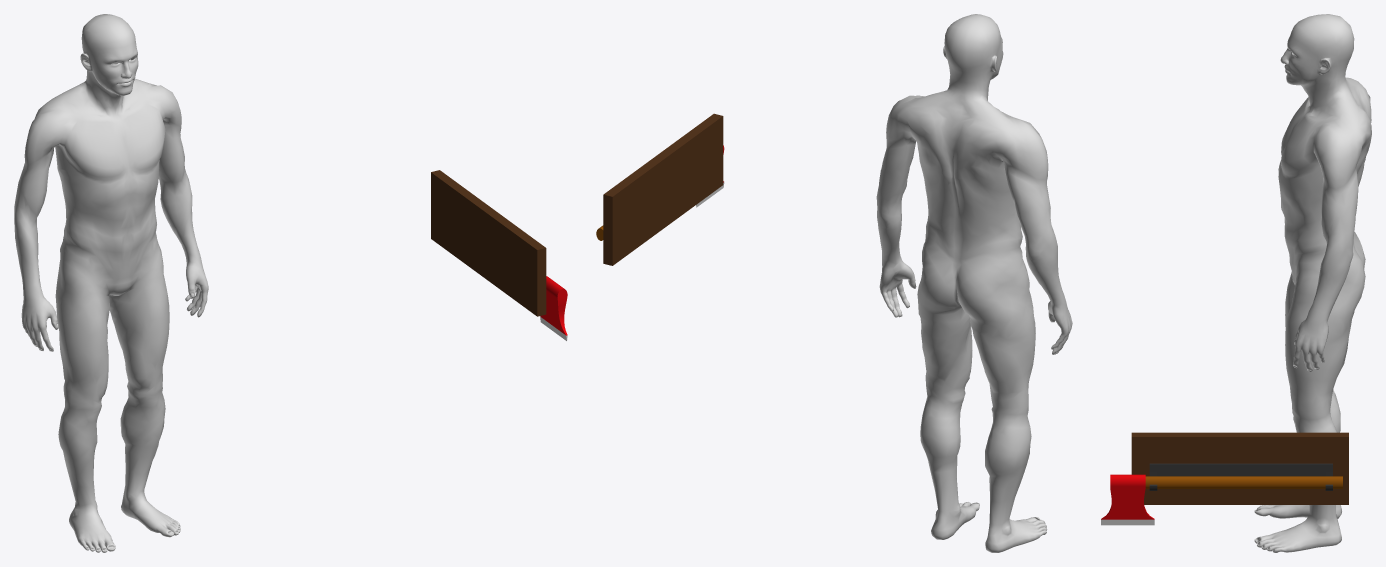
Rendered from AxeAndHolder.fbx.
3 views of the same model, side by side, from view 1: azimuth 30°, elevation 25°; view 2: azimuth 150°, elevation 25°; view 3: azimuth 270°, elevation 25° (orthographic). The views are drawn at different scales.
Parts seen in each view (by area): view 1: Man, Hook, Axe; view 2: Man, Hook; view 3: Man, Hook, Axe.
Part boxes in pixels (x1,y1,x2,y2): Man: (14, 14, 208, 552); Hook: (431, 170, 546, 316); Axe: (540, 276, 567, 340); Man: (876, 14, 1072, 552); Hook: (603, 113, 723, 265); Man: (1254, 14, 1371, 552); Hook: (1131, 432, 1348, 504); Axe: (1101, 474, 1342, 525).
Bounding box in the file's own units: 162 × 176 × 84.03.
